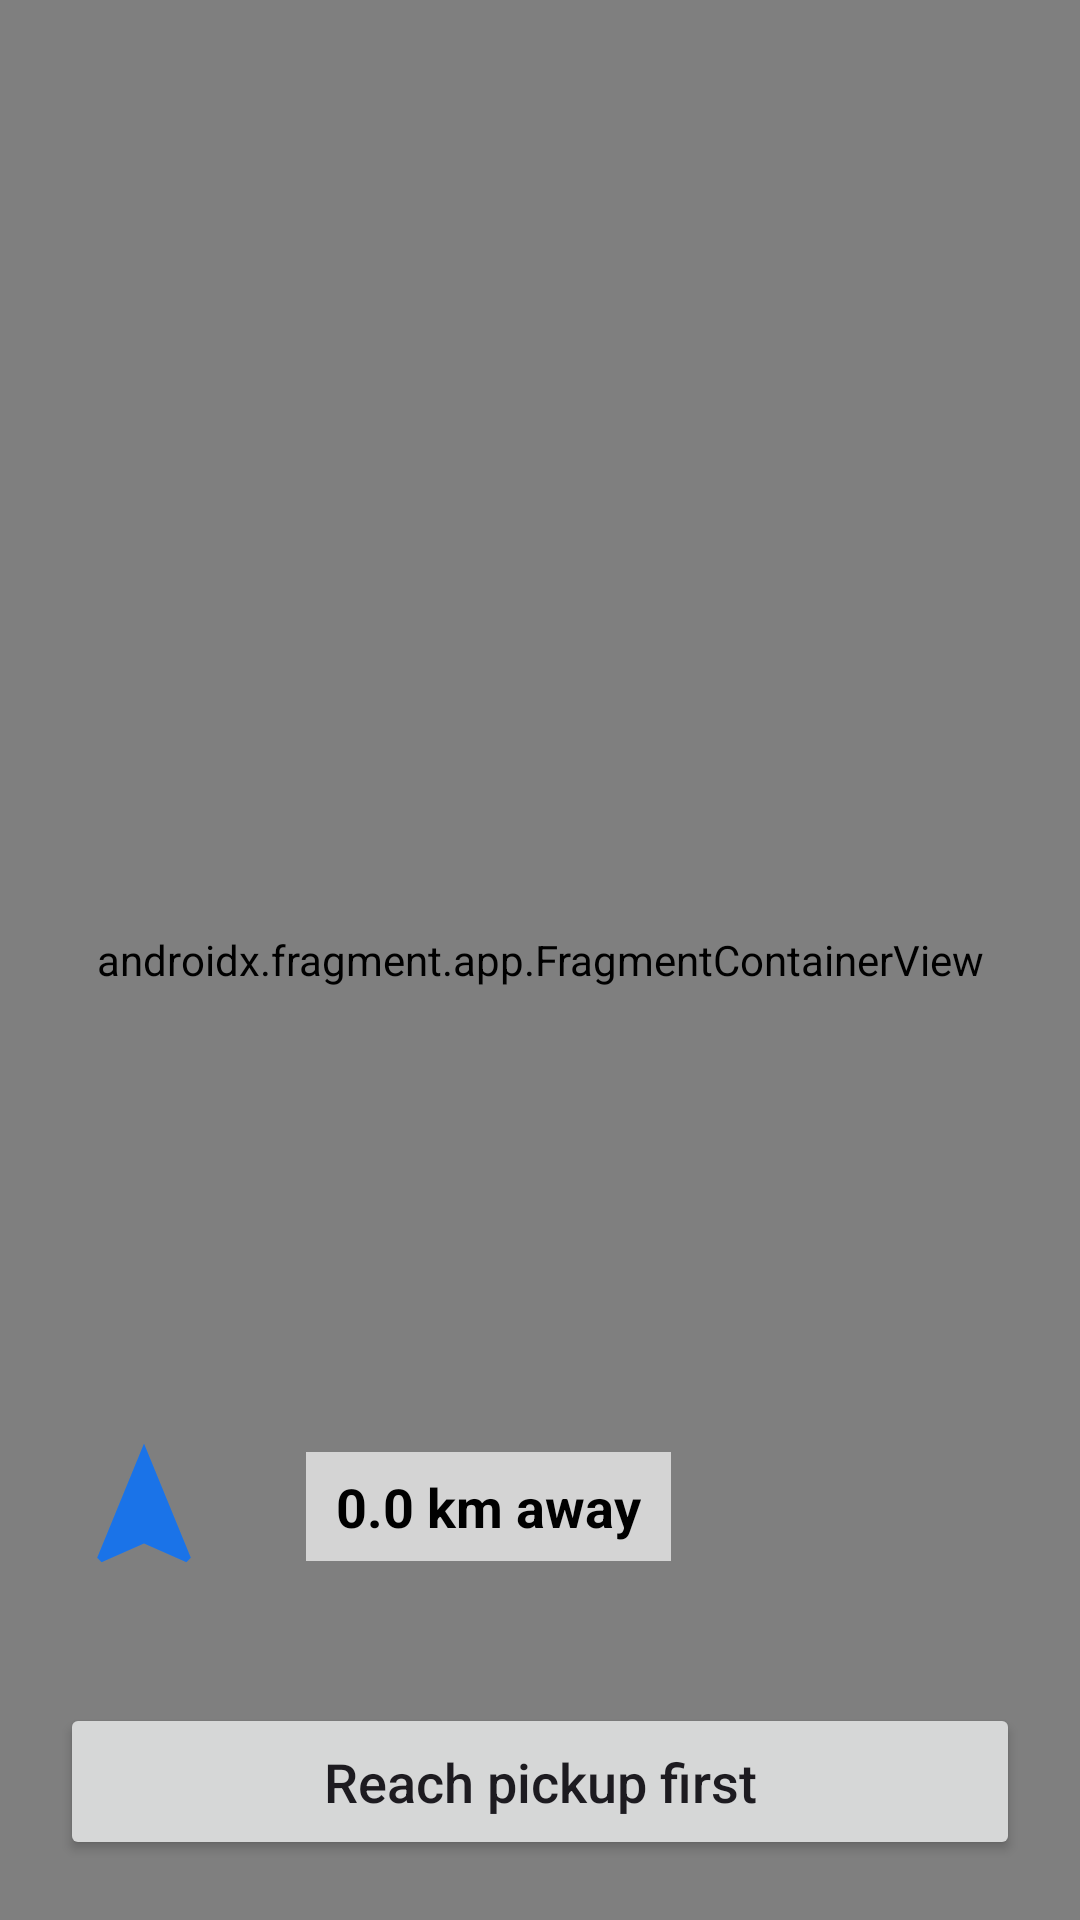

Named icons in this screenshot (1080×1920) and their centers, [x,y]:
Start Navigation: [144,1503]
